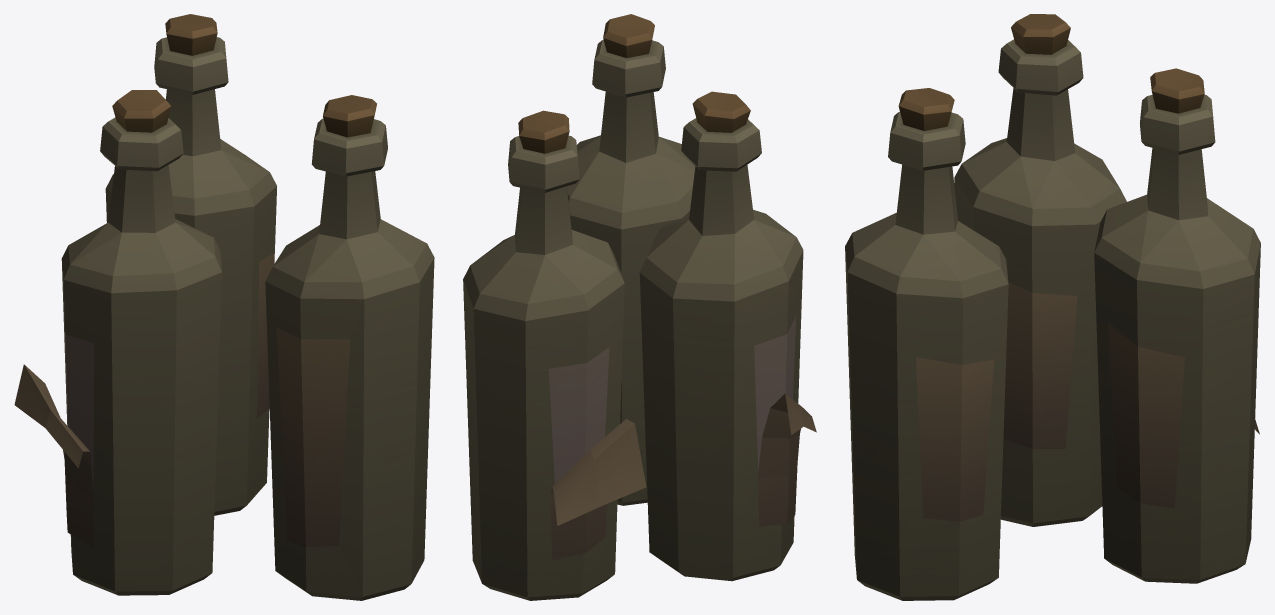
The model's file is SM_EN_WinePelingLabels.fbx.
The picture shows the model from 3 angles, left to right: view 1: azimuth 30°, elevation 25°; view 2: azimuth 150°, elevation 25°; view 3: azimuth 270°, elevation 25°; orthographic projection. The views are drawn at different scales.
Visible parts, largest first — view 1: SM_EN_WinePelingLabels; view 2: SM_EN_WinePelingLabels; view 3: SM_EN_WinePelingLabels.
Boxes of the visible parts, x1,y1,x2,y2 form: SM_EN_WinePelingLabels: (14, 14, 434, 600); SM_EN_WinePelingLabels: (463, 14, 816, 600); SM_EN_WinePelingLabels: (845, 14, 1260, 600).
Bounding box in the file's own units: 48.26 × 53.19 × 67.55.
